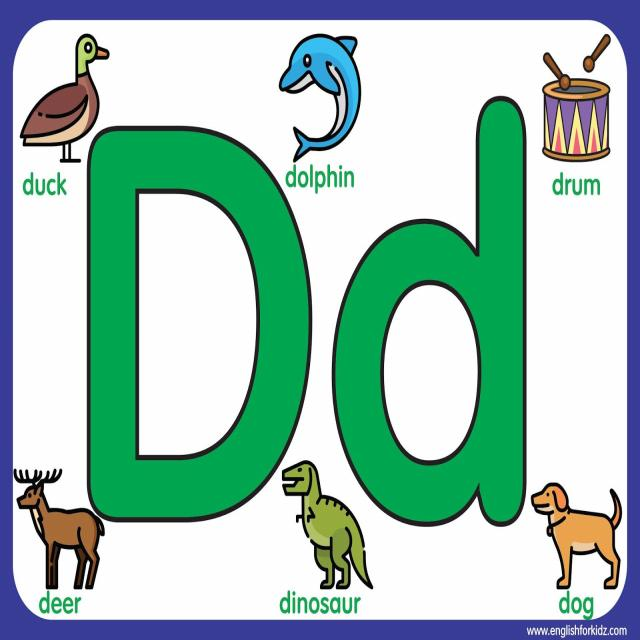D: (83, 124, 313, 531)
